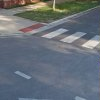crosswalk: (40, 27, 100, 49)
